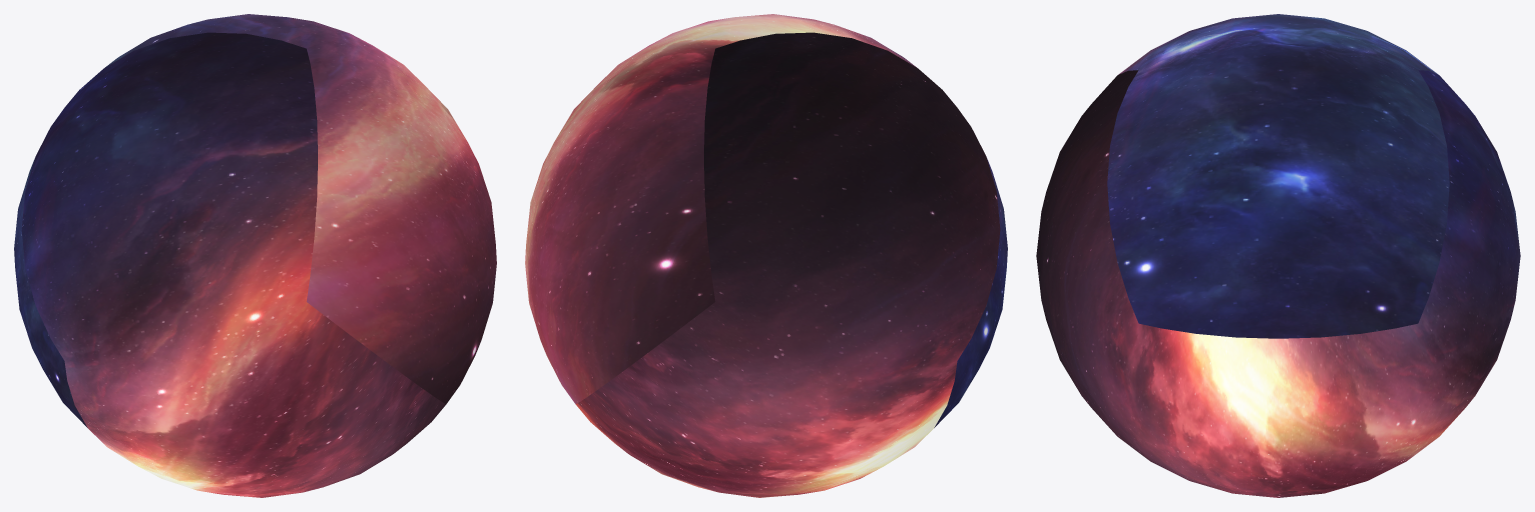
Rendered from Space_Sphere.gltf.
3 views of the same model, side by side, from view 1: azimuth 30°, elevation 25°; view 2: azimuth 150°, elevation 25°; view 3: azimuth 270°, elevation 25° (orthographic).
Parts seen in each view (by area): view 1: Box001; view 2: Box001; view 3: Box001.
Boxes of the visible parts, <box> form: Box001: <box>14,14,496,497</box>; Box001: <box>525,14,1007,497</box>; Box001: <box>1036,14,1520,497</box>.
Bounding box in the file's own units: 8.8 × 8.8 × 8.8.
